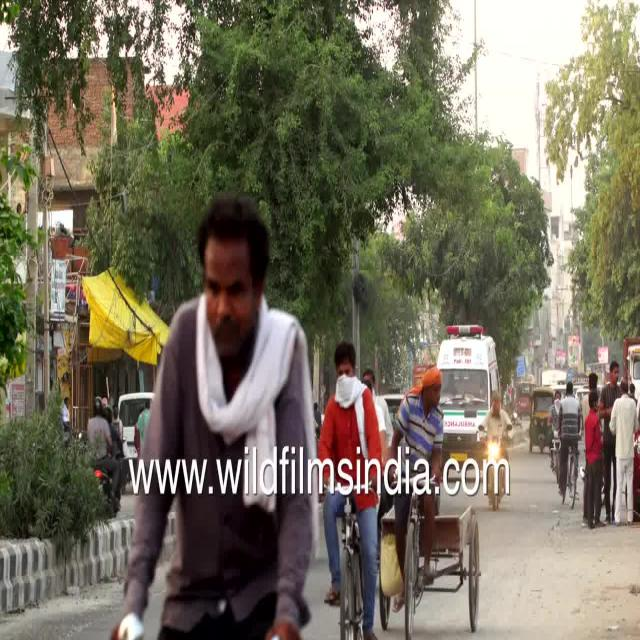ambulance: (436, 328, 502, 459)
